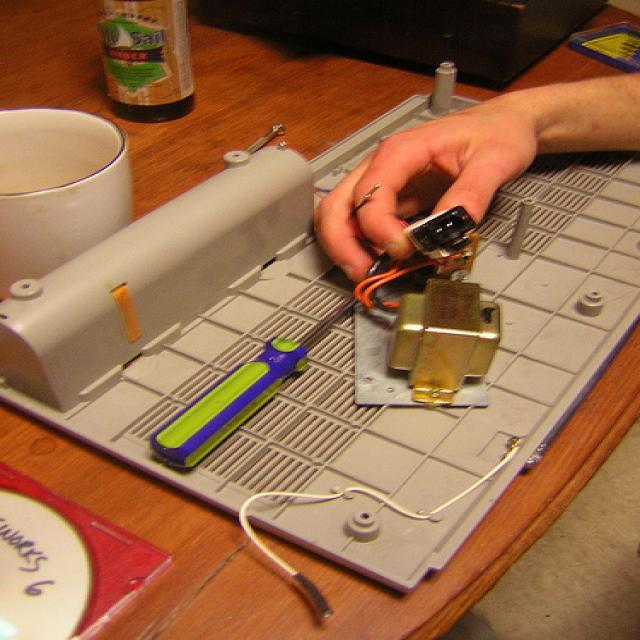screwdriver: (140, 272, 386, 475)
